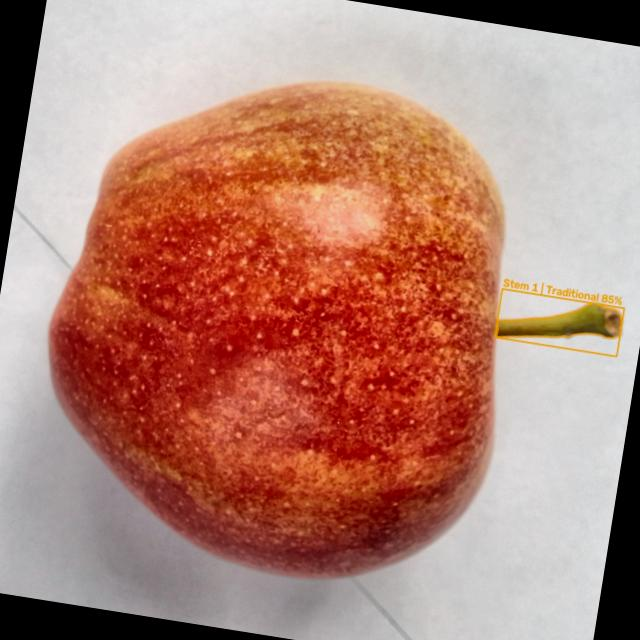Fruit-Stem-Detection: (465, 242, 638, 374), (494, 296, 622, 339)
